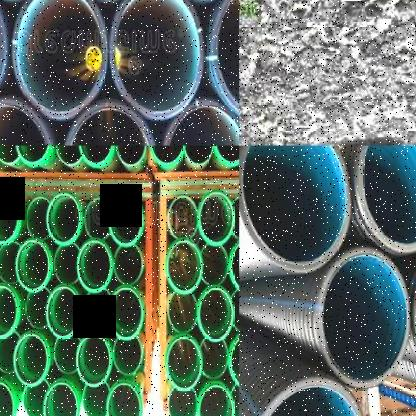pipe: (239, 146, 352, 274), (318, 248, 409, 390), (13, 0, 108, 119), (114, 0, 200, 113), (354, 145, 416, 252), (60, 100, 158, 146), (253, 385, 362, 416), (164, 105, 240, 146), (0, 99, 56, 146), (217, 0, 239, 114), (197, 284, 235, 341), (165, 240, 203, 295), (75, 332, 112, 388), (13, 332, 50, 388), (198, 191, 235, 246), (108, 284, 144, 340), (15, 238, 52, 292), (46, 192, 82, 247), (109, 191, 144, 247), (167, 337, 202, 392), (46, 285, 80, 339), (77, 238, 111, 292), (42, 377, 79, 416), (196, 381, 234, 416), (106, 379, 141, 416), (200, 243, 228, 286), (169, 196, 197, 239), (168, 293, 197, 333), (113, 335, 142, 375), (54, 332, 81, 374), (114, 245, 143, 284), (200, 339, 228, 379), (84, 197, 110, 240), (23, 377, 51, 416), (26, 197, 51, 240), (25, 288, 51, 329), (54, 243, 80, 284), (84, 289, 110, 329), (0, 192, 20, 244), (82, 380, 110, 416), (0, 286, 17, 338), (0, 331, 21, 373), (0, 241, 20, 284), (168, 389, 196, 416), (150, 146, 185, 166), (14, 146, 50, 164), (79, 146, 113, 164), (116, 146, 146, 166), (229, 237, 239, 294), (229, 331, 239, 388), (56, 146, 82, 166), (0, 379, 14, 416), (185, 146, 213, 164), (212, 146, 239, 164), (230, 288, 239, 333), (0, 146, 19, 164), (231, 197, 239, 238), (230, 381, 239, 416)
